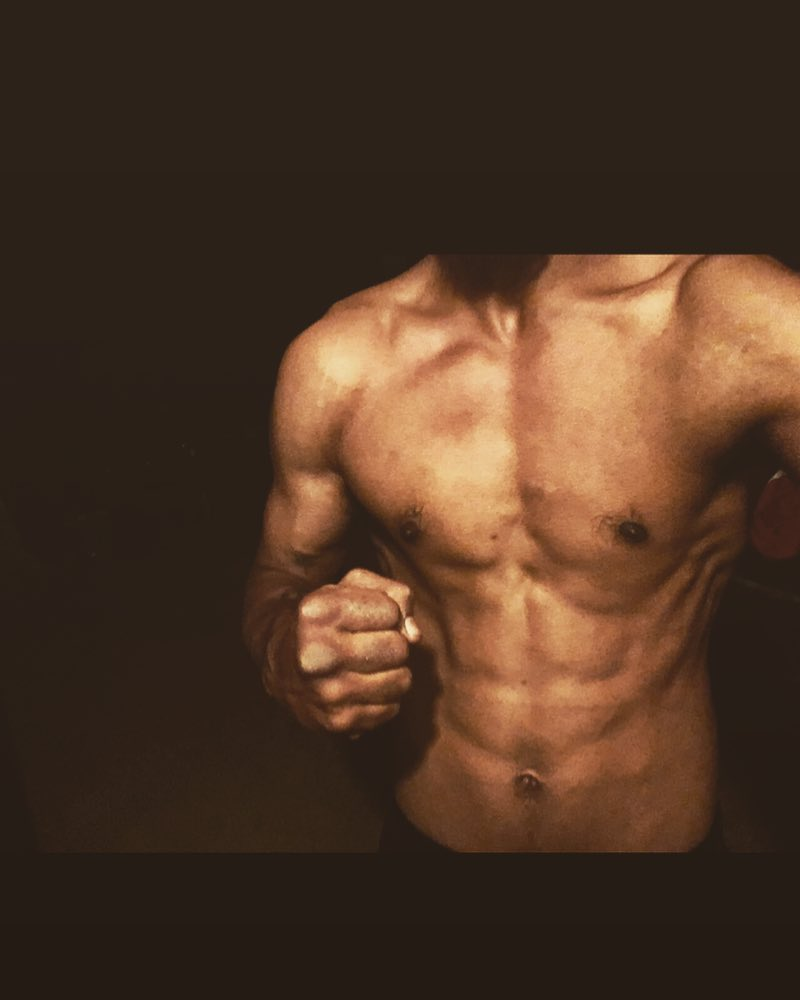hand: (271, 574, 406, 726)
